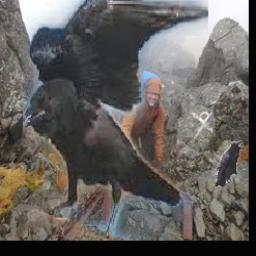Crow: (24, 0, 209, 241), (212, 140, 245, 189)
